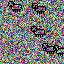sheep: (41, 43, 56, 54), (52, 44, 64, 57), (8, 1, 22, 12), (32, 3, 46, 14), (31, 26, 45, 37)
